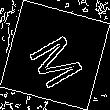M_NE: (22, 23, 88, 87)
